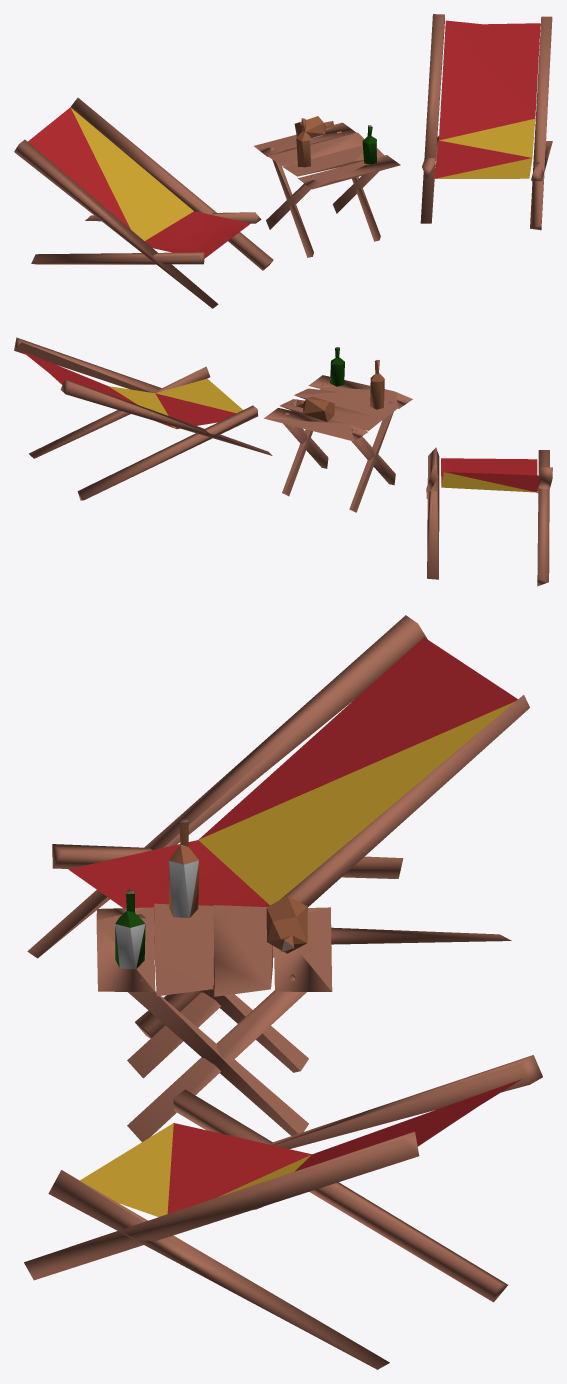
File: summer scene1.fbx
3 views of the same model, one above another, from view 1: azimuth 30°, elevation 25°; view 2: azimuth 150°, elevation 25°; view 3: azimuth 270°, elevation 25° (orthographic). The views are drawn at different scales.
Parts seen in each view (by area): view 1: Cube.001, Cube.004, Cube.010, Cylinder.005, Cylinder, Cylinder.006; view 2: Cube.001, Cube.010, Cube.004, Cylinder, Cylinder.005, Cylinder.006; view 3: Cube.004, Cube.001, Cube.010, Cylinder.005, Cylinder, Cylinder.006.
Part boxes in pixels (left/top/right/bottom): Cube.001: left=420, top=14, right=552, bottom=230; Cube.004: left=14, top=97, right=273, bottom=308; Cube.010: left=254, top=122, right=400, bottom=257; Cylinder.005: left=296, top=118, right=310, bottom=167; Cylinder: left=294, top=116, right=334, bottom=138; Cylinder.006: left=362, top=125, right=376, bottom=164; Cube.001: left=14, top=337, right=272, bottom=500; Cube.010: left=264, top=375, right=412, bottom=512; Cube.004: left=426, top=447, right=552, bottom=586; Cylinder: left=293, top=396, right=334, bottom=421; Cylinder.005: left=369, top=360, right=384, bottom=409; Cylinder.006: left=330, top=347, right=344, bottom=386; Cube.004: left=27, top=615, right=529, bottom=1038; Cube.001: left=24, top=1055, right=542, bottom=1369; Cube.010: left=96, top=903, right=332, bottom=1141; Cylinder.005: left=169, top=818, right=199, bottom=917; Cylinder: left=266, top=895, right=307, bottom=953; Cylinder.006: left=115, top=889, right=145, bottom=969.
Bounding box in the file's own units: 893 × 216 × 376.
